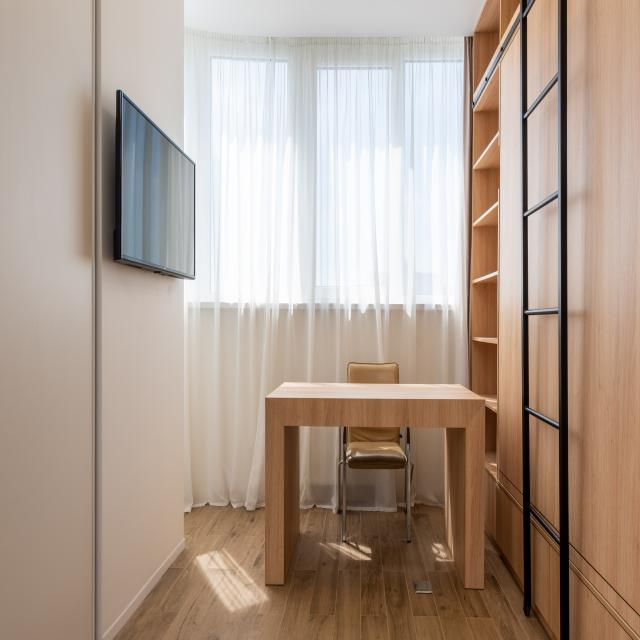chair: (336, 351, 418, 515)
desk: (262, 373, 504, 570)
television: (107, 72, 226, 297)
wardrobe: (472, 22, 627, 576)
window: (213, 32, 461, 311)
